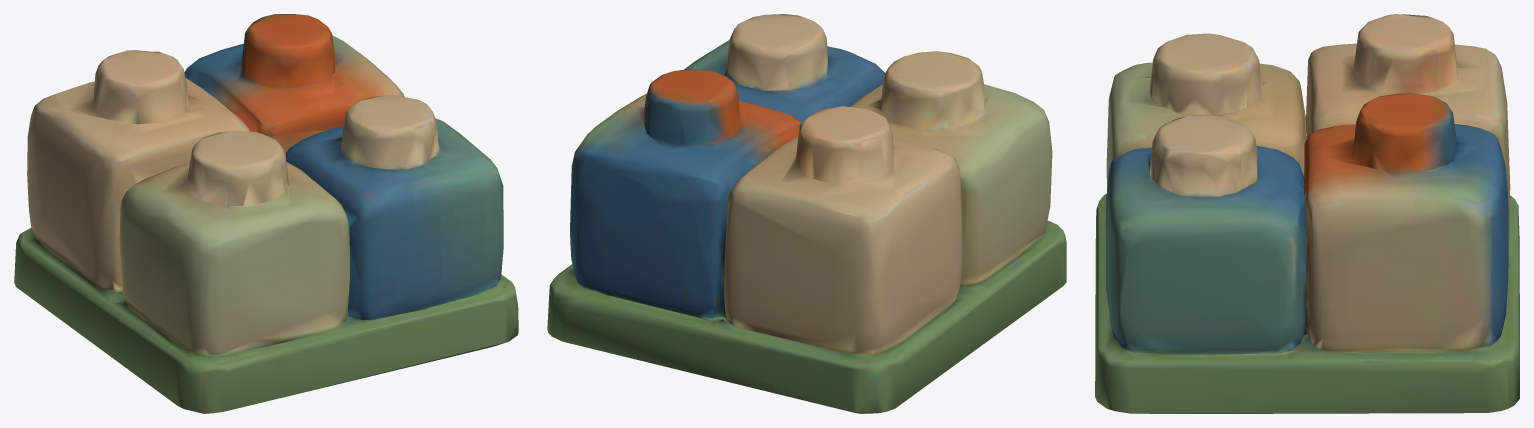
The model's file is quadrell.lod.glb.
3 renders of one model, left to right at view 1: azimuth 30°, elevation 25°; view 2: azimuth 150°, elevation 25°; view 3: azimuth 270°, elevation 25°, orthographic. The views are drawn at different scales.
Visible parts, largest first — view 1: textured_mesh.obj; view 2: textured_mesh.obj; view 3: textured_mesh.obj.
Part boxes in pixels (x1=…): textured_mesh.obj: x1=14, y1=14, x2=518, y2=413; textured_mesh.obj: x1=547, y1=14, x2=1066, y2=413; textured_mesh.obj: x1=1095, y1=14, x2=1519, y2=413.
Size of the model in its own units: 1.51 by 0.9971 by 1.51.
1 material, 1 textured.
